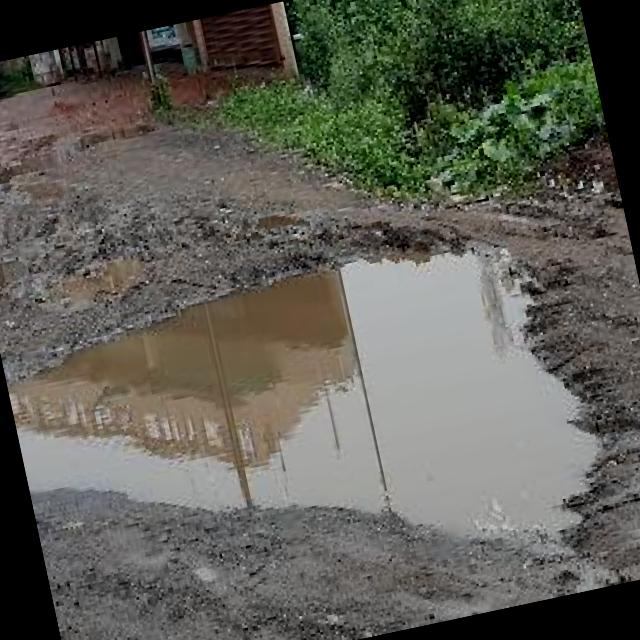stagnation: (0, 192, 638, 640)
